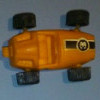carro: (5, 12, 95, 82)
